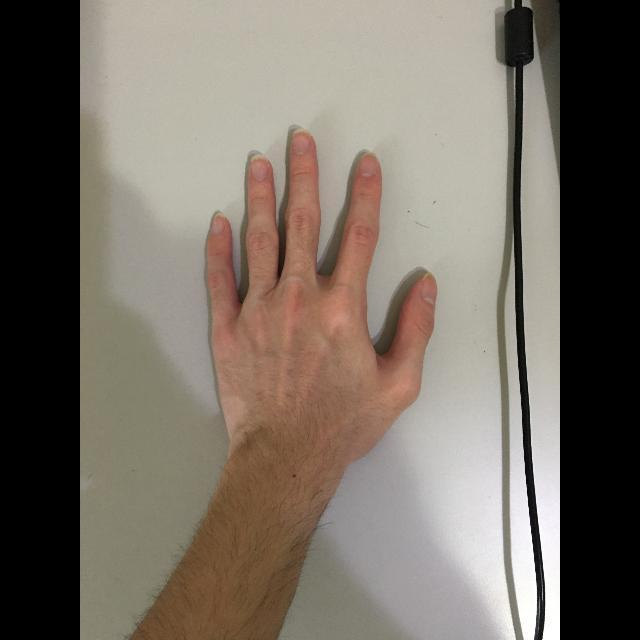bare_hand: (202, 123, 441, 459)
